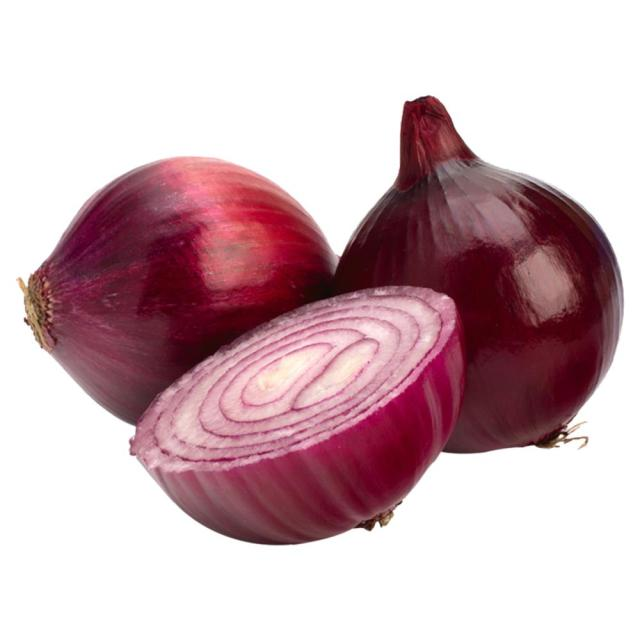onion: (328, 88, 622, 450), (136, 283, 465, 548), (26, 151, 339, 426)
